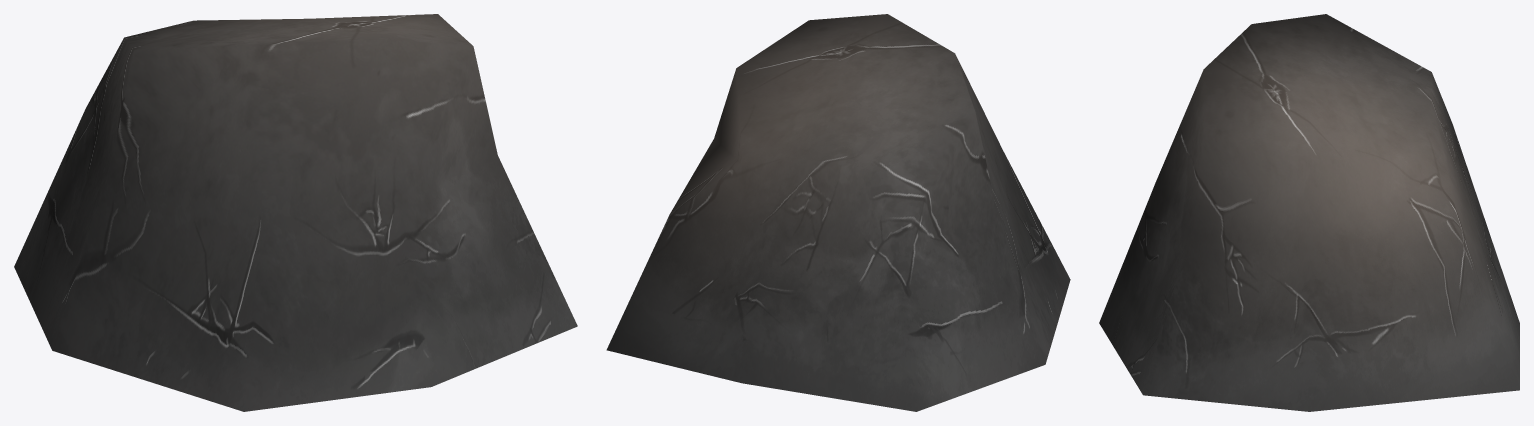
The model's file is pedraFazenda.fbx.
3 views of the same model, side by side, from view 1: azimuth 30°, elevation 25°; view 2: azimuth 150°, elevation 25°; view 3: azimuth 270°, elevation 25° (orthographic). The views are drawn at different scales.
Visible parts, largest first — view 1: CA_OPE_Props_Fazenda; view 2: CA_OPE_Props_Fazenda; view 3: CA_OPE_Props_Fazenda.
Boxes of the visible parts, <box> form: CA_OPE_Props_Fazenda: <box>14,14,577,411</box>; CA_OPE_Props_Fazenda: <box>606,14,1070,411</box>; CA_OPE_Props_Fazenda: <box>1099,14,1519,411</box>.
Bounding box in the file's own units: 1.48 × 0.9243 × 1.36.
